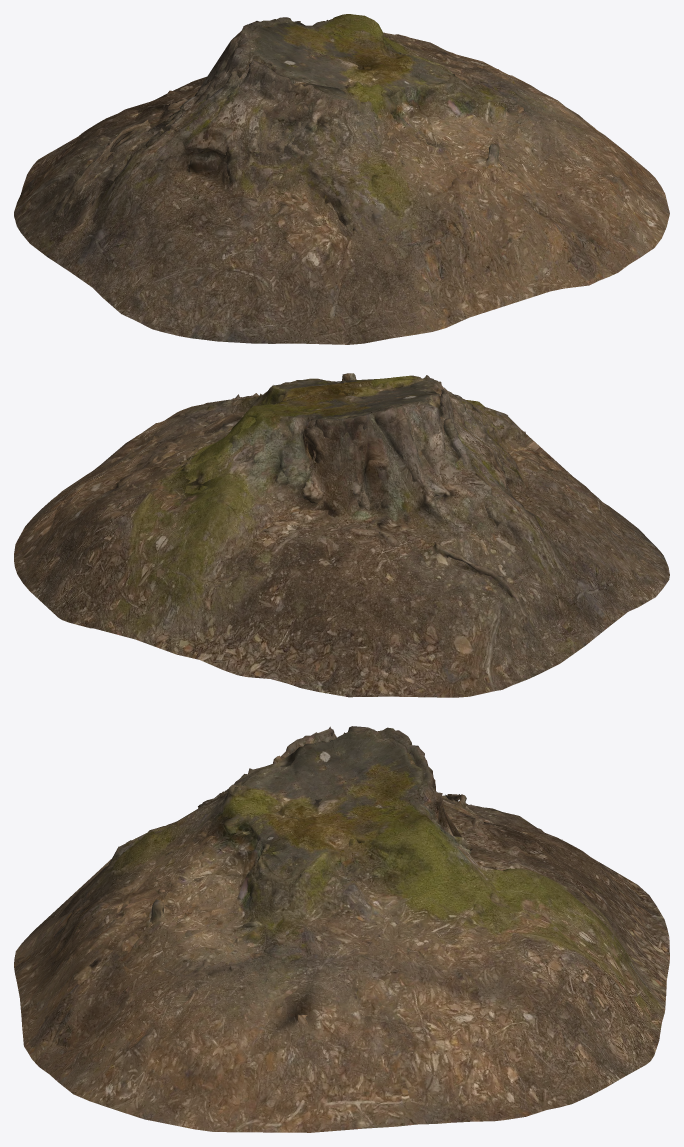
File: tree_stump_02.glb
3 renders of one model, top to bottom at view 1: azimuth 30°, elevation 25°; view 2: azimuth 150°, elevation 25°; view 3: azimuth 270°, elevation 25°, orthographic. The views are drawn at different scales.
Visible parts, largest first — view 1: tree_stump_02, tree_stump_02_lo; view 2: tree_stump_02, tree_stump_02_lo; view 3: tree_stump_02, tree_stump_02_lo.
Part boxes in pixels (left/top/right/bottom): tree_stump_02: left=14, top=14, right=669, bottom=344; tree_stump_02_lo: left=14, top=21, right=668, bottom=344; tree_stump_02: left=14, top=373, right=669, bottom=697; tree_stump_02_lo: left=14, top=375, right=665, bottom=697; tree_stump_02: left=14, top=726, right=669, bottom=1132; tree_stump_02_lo: left=16, top=727, right=666, bottom=1132.
Bounding box in the file's own units: 1.52 × 0.5215 × 1.39.
1 material, 1 textured.
